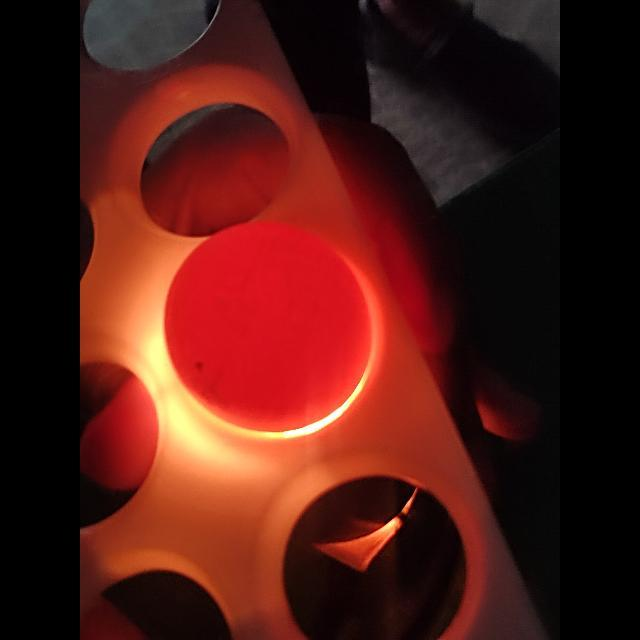Infertile: (162, 222, 378, 440)
